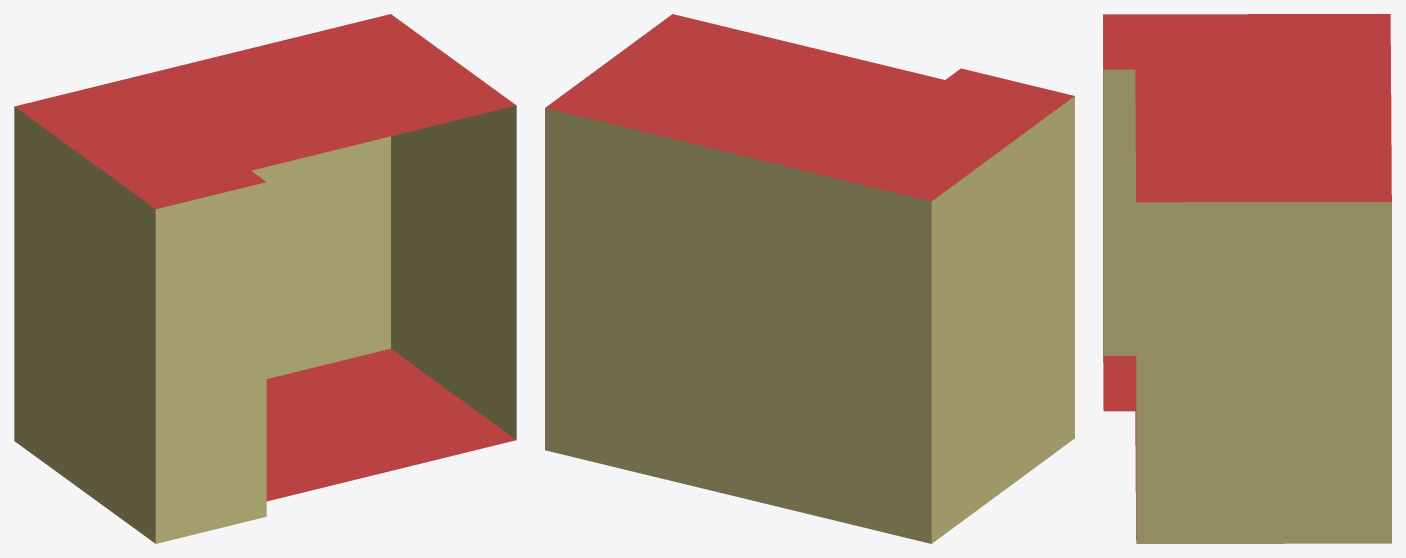
The picture shows the model from 3 angles, left to right: view 1: azimuth 30°, elevation 25°; view 2: azimuth 150°, elevation 25°; view 3: azimuth 270°, elevation 25°; orthographic projection. The views are drawn at different scales.
Bounding box in the file's own units: 6.29 × 4.08 × 5.32.
